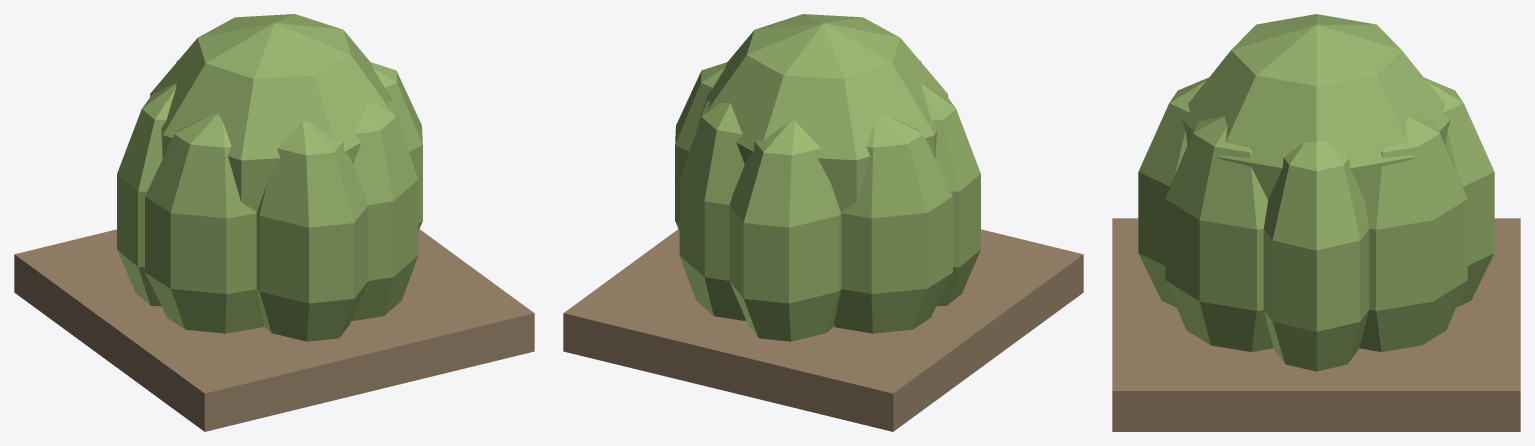
File: cozy-farm-and-homestead-cabbage-mature-31876e45__19386.glb
3 renders of one model, left to right at view 1: azimuth 30°, elevation 25°; view 2: azimuth 150°, elevation 25°; view 3: azimuth 270°, elevation 25°, orthographic. The views are drawn at different scales.
Parts seen in each view (by area): view 1: cabbage-mature; view 2: cabbage-mature; view 3: cabbage-mature.
Boxes of the visible parts, x1,y1,x2,y2 form: cabbage-mature: (14,14,534,431); cabbage-mature: (563,14,1083,431); cabbage-mature: (1112,14,1520,431).
Bounding box in the file's own units: 0.45 × 0.39 × 0.45.
